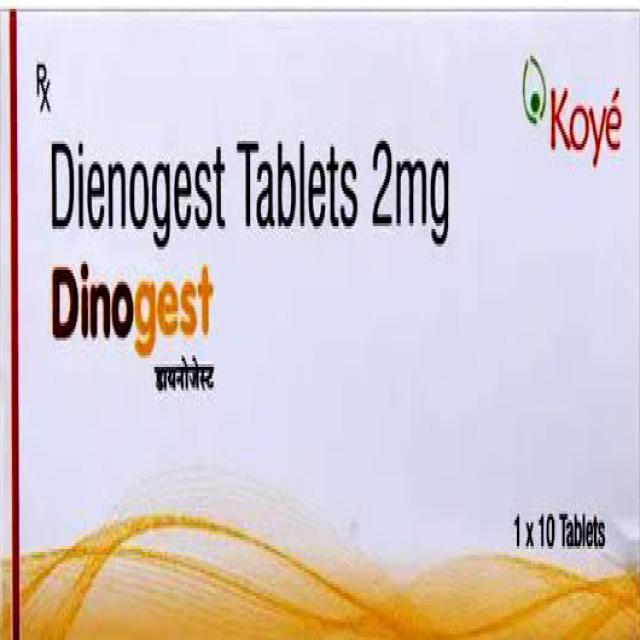drug-name: (48, 250, 228, 362)
